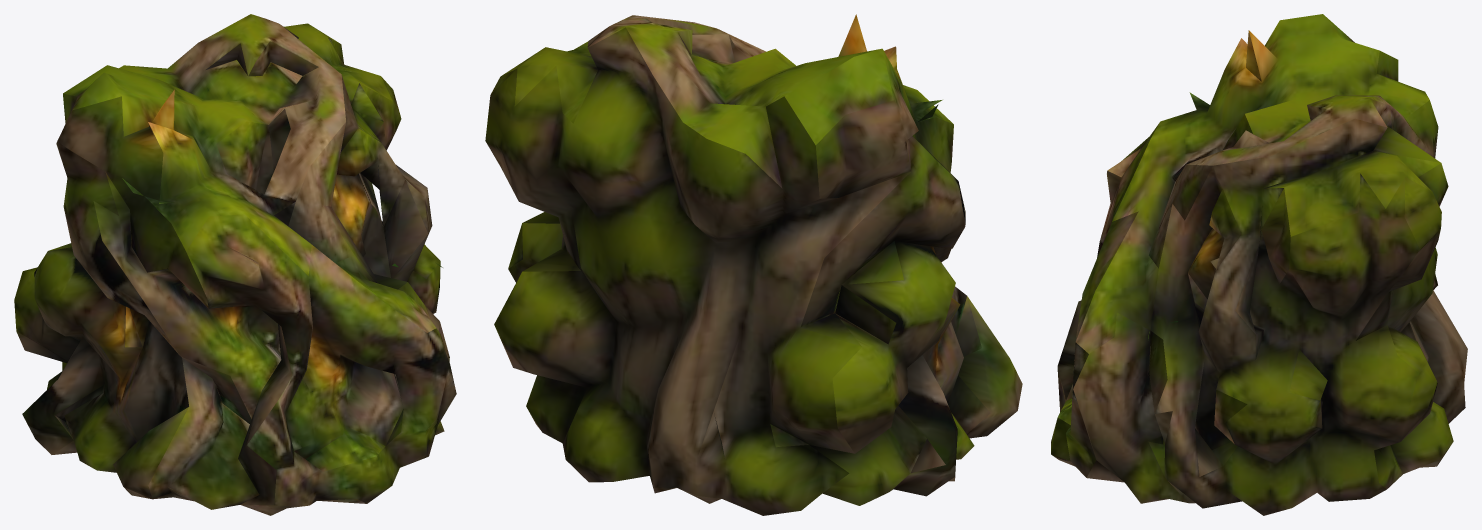
Rendered from d_racines_massif.glb.
3 renders of one model, left to right at view 1: azimuth 30°, elevation 25°; view 2: azimuth 150°, elevation 25°; view 3: azimuth 270°, elevation 25°, orthographic. The views are drawn at different scales.
Parts seen in each view (by area): view 1: geometry_0; view 2: geometry_0; view 3: geometry_0.
Part boxes in pixels (x1=…): geometry_0: x1=14, y1=14, x2=456, y2=515; geometry_0: x1=485, y1=14, x2=1022, y2=515; geometry_0: x1=1051, y1=14, x2=1467, y2=515.
Bounding box in the file's own units: 0.9868 × 0.9193 × 0.9032.
Materials: 1 (1 with a texture image).
